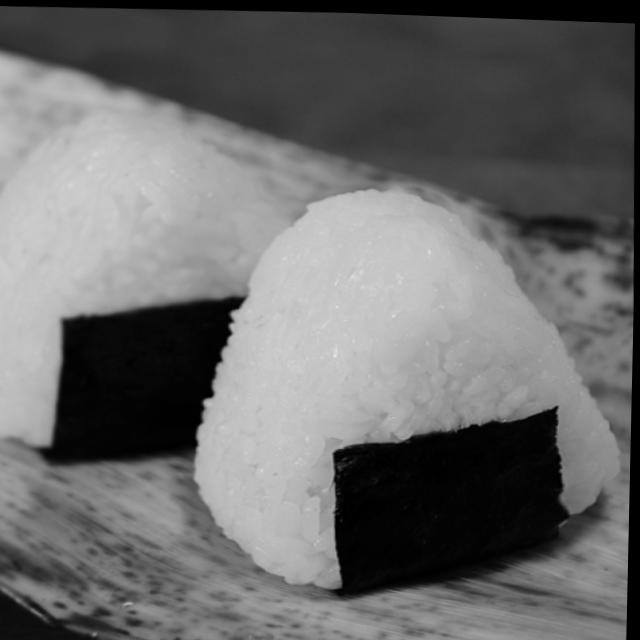米饭主食: (183, 159, 637, 586), (0, 75, 319, 463)
